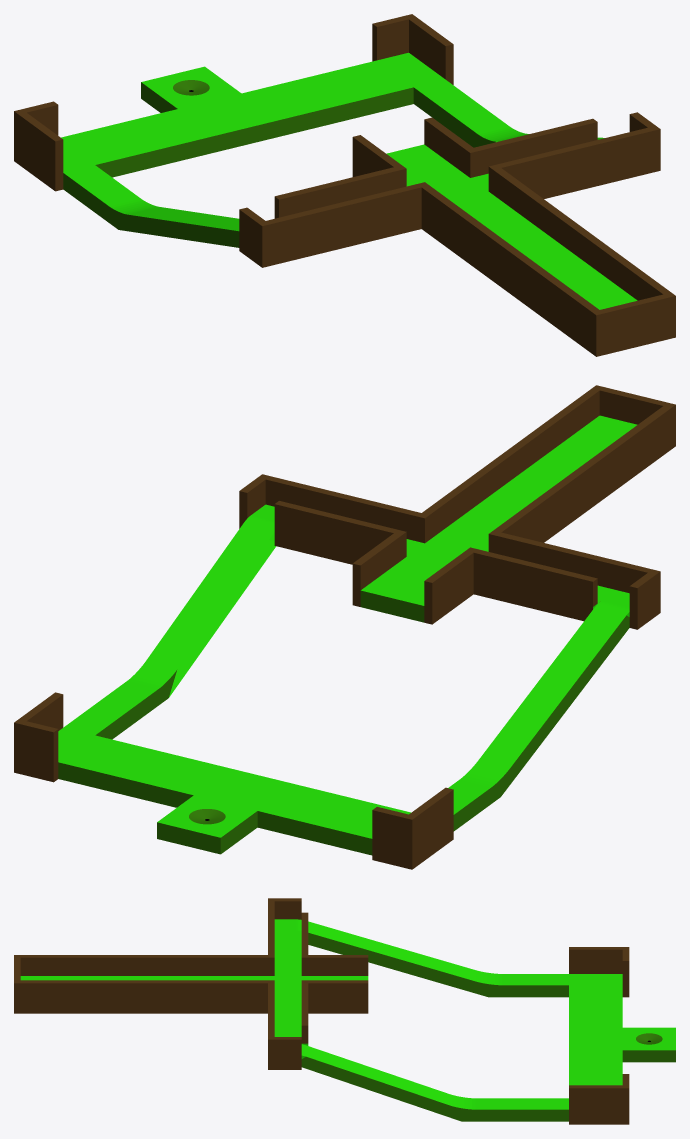
The model's file is Hole3.fbx.
3 views of the same model, one above another, from view 1: azimuth 30°, elevation 25°; view 2: azimuth 150°, elevation 25°; view 3: azimuth 270°, elevation 25° (orthographic). The views are drawn at different scales.
Parts seen in each view (by area): view 1: Hole3Walls, Hole3Base; view 2: Hole3Base, Hole3Walls; view 3: Hole3Base, Hole3Walls.
Boxes of the visible parts, box(x1,y1,x2,y2) form: Hole3Walls: box(14, 14, 675, 356); Hole3Base: box(61, 52, 637, 309); Hole3Base: box(58, 415, 637, 855); Hole3Walls: box(14, 385, 675, 869); Hole3Base: box(20, 919, 675, 1121); Hole3Walls: box(14, 898, 629, 1124).
Bounding box in the file's own units: 700 × 2500 × 4950.
